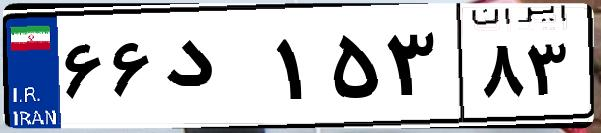1: (270, 28, 330, 110)
3: (385, 28, 445, 110), (525, 38, 570, 115)
5: (330, 28, 385, 110)
6: (57, 26, 110, 100), (110, 28, 158, 98)
8: (475, 38, 525, 113)
د: (158, 20, 270, 120)
